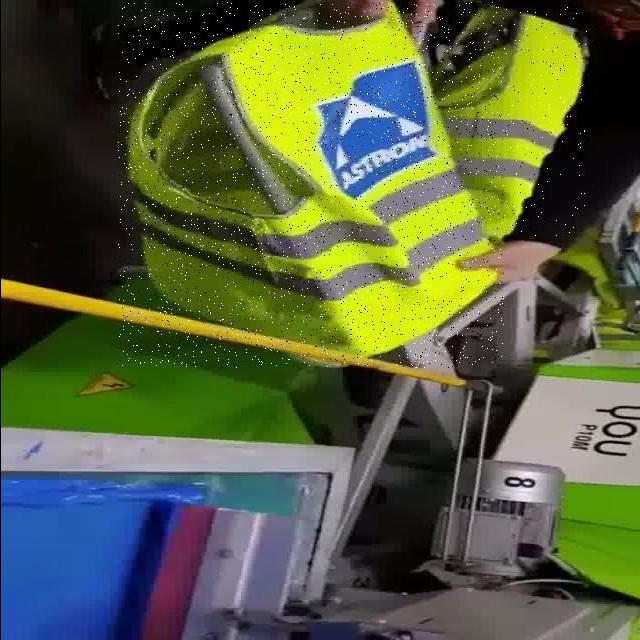vest: (116, 2, 502, 368), (436, 5, 586, 236)
